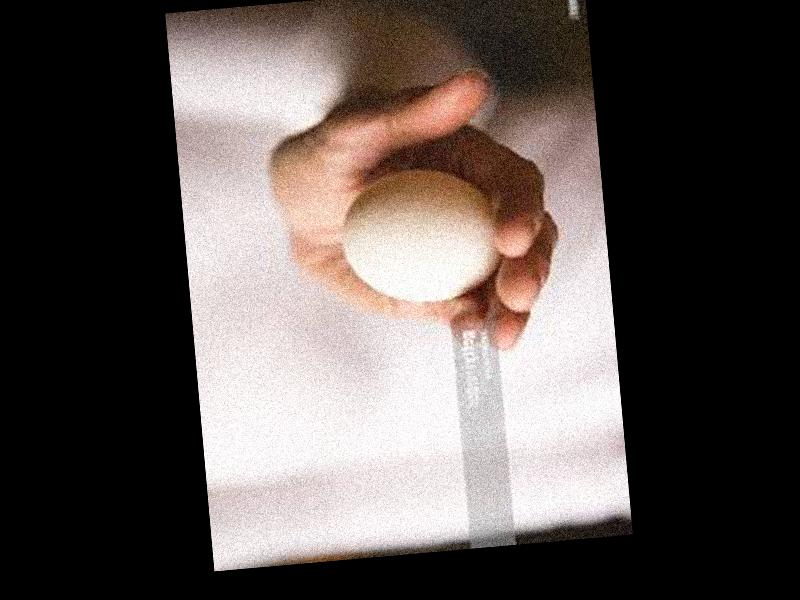Eggs: (338, 160, 503, 308)
